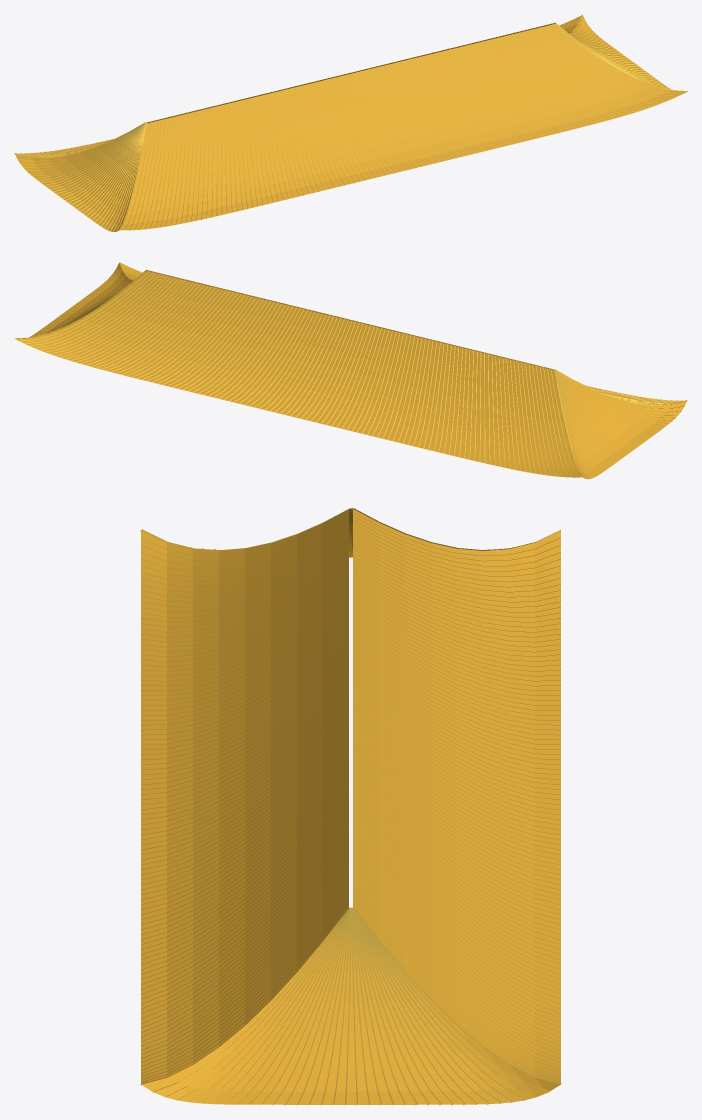
The model's file is SM_22_Roof_Upper.fbx.
The picture shows the model from 3 angles, top to bottom: view 1: azimuth 30°, elevation 25°; view 2: azimuth 150°, elevation 25°; view 3: azimuth 270°, elevation 25°; orthographic projection. The views are drawn at different scales.
Parts seen in each view (by area): view 1: Roof_Upper; view 2: Roof_Upper; view 3: Roof_Upper.
Boxes of the visible parts, x1=… form: Roof_Upper: x1=14, y1=14, x2=687, y2=232; Roof_Upper: x1=14, y1=262, x2=687, y2=479; Roof_Upper: x1=140, y1=508, x2=561, y2=1105.
Bounding box in the file's own units: 5009 × 1609 × 507.
